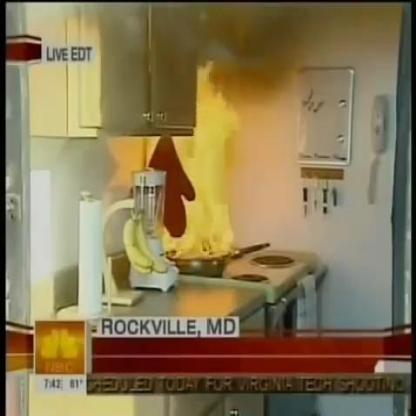fire: (162, 120, 236, 266)
